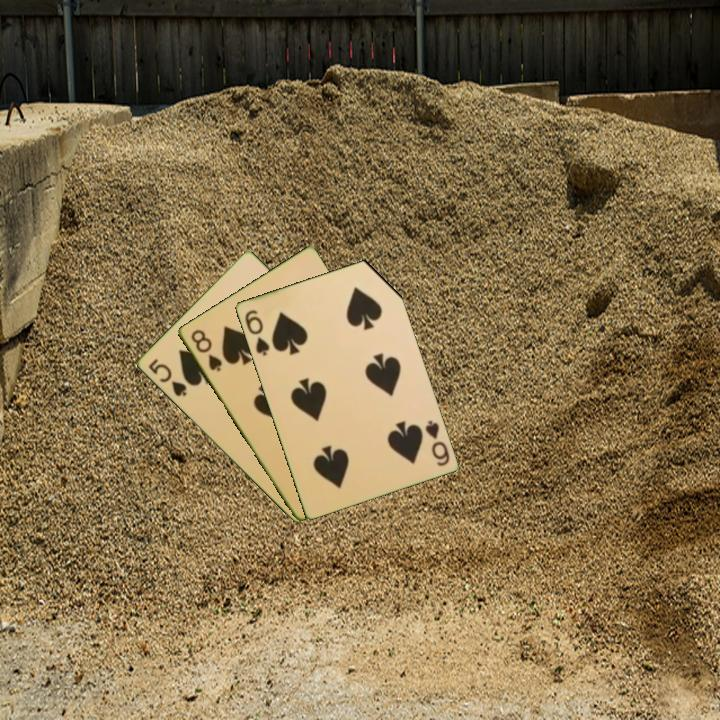5s: (144, 355, 189, 399)
6s: (421, 416, 452, 469), (241, 306, 272, 358)
8s: (187, 326, 225, 375)
